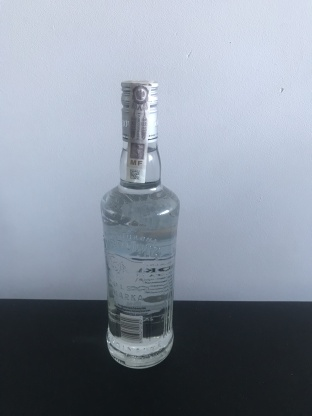nakretka: (118, 77, 161, 145)
